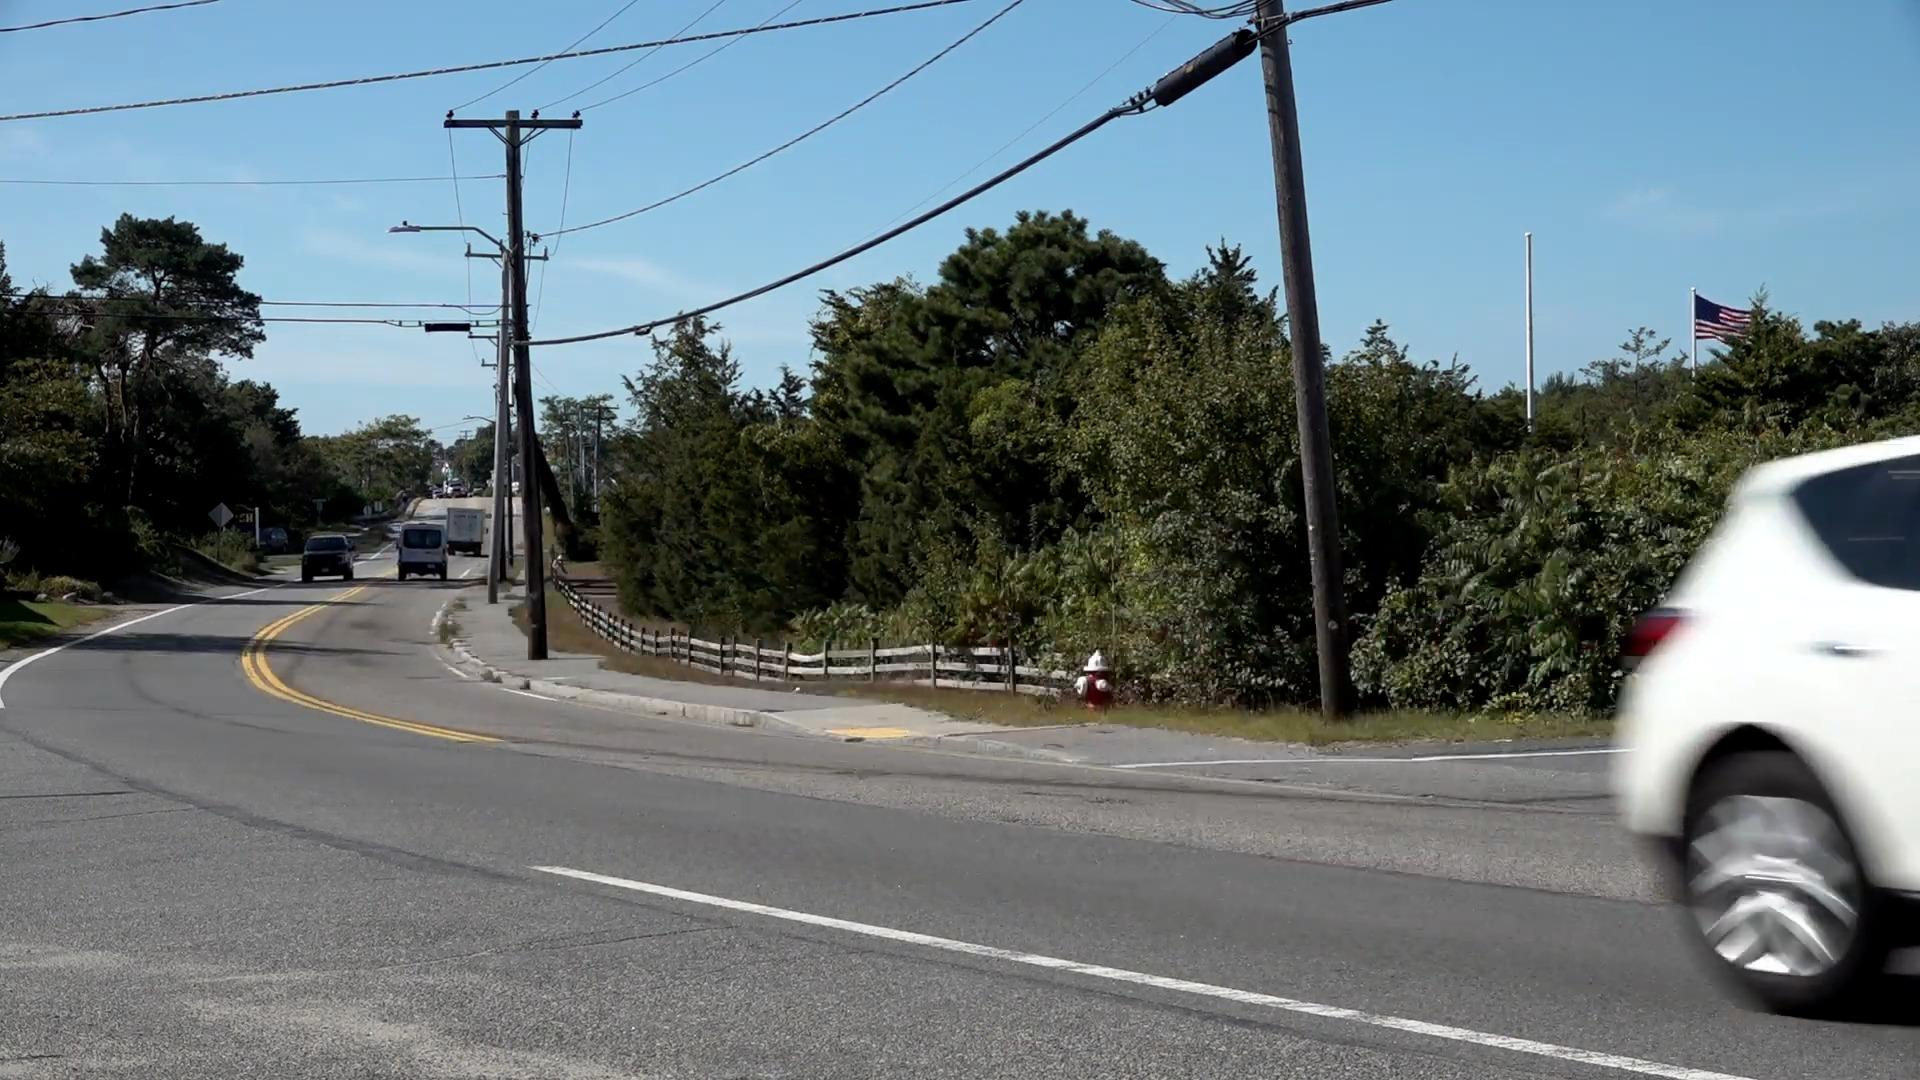suv: (1598, 423, 1920, 1011)
